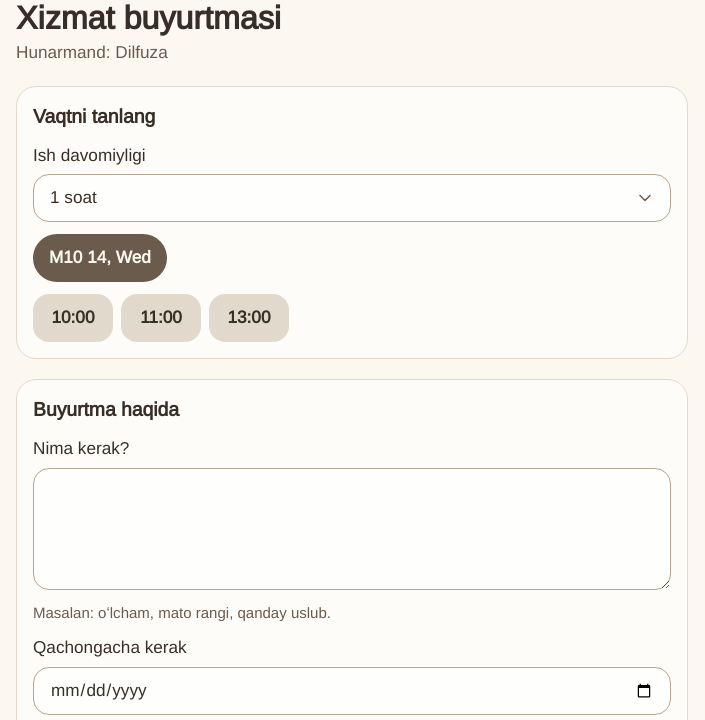
Scenario: new service order page › shows a translated message when the slot was taken meanwhile
Click the button "10:00" at (73, 318), box [33,294,113,342]
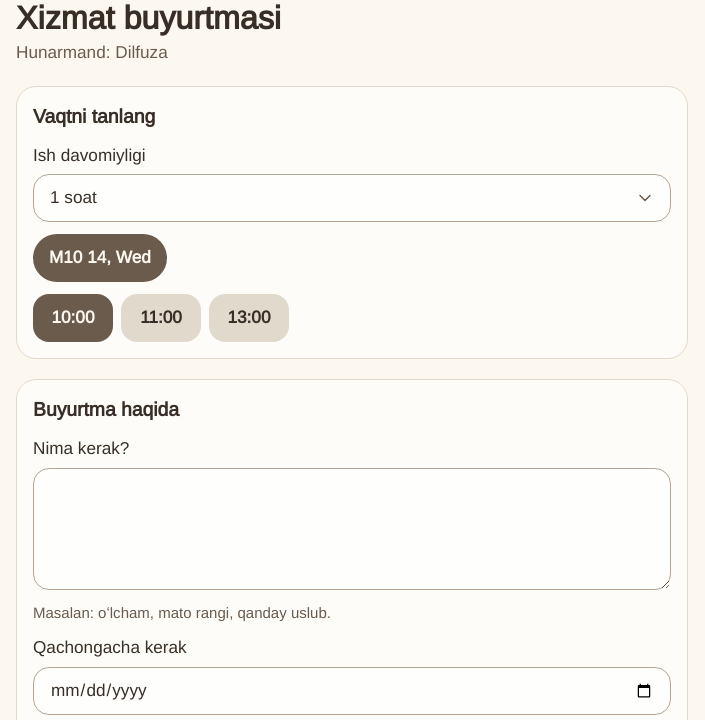
Type "Koʻylak" into the text box labelled "Nima kerak?" at (352, 529), box [33,468,671,590]
(page scrolled)
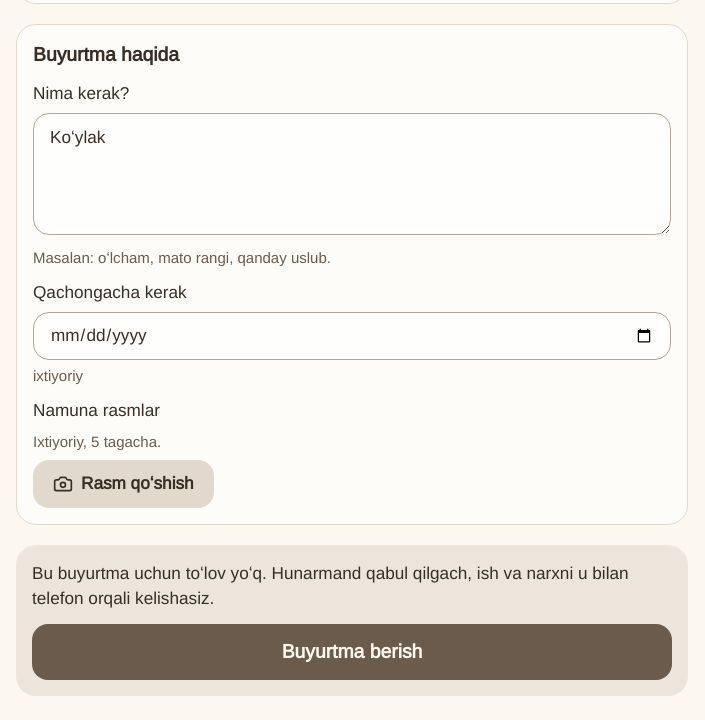
Click the button "Buyurtma berish" at (352, 652), box [32,624,672,680]
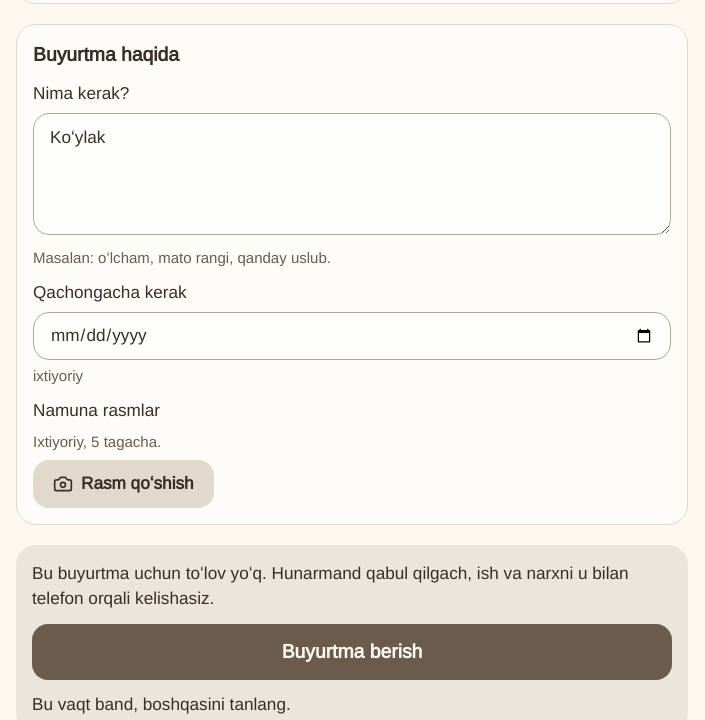
Expected: the text "Bu vaqt band, boshqasini tanlang." is shown, [32,695,291,714]
